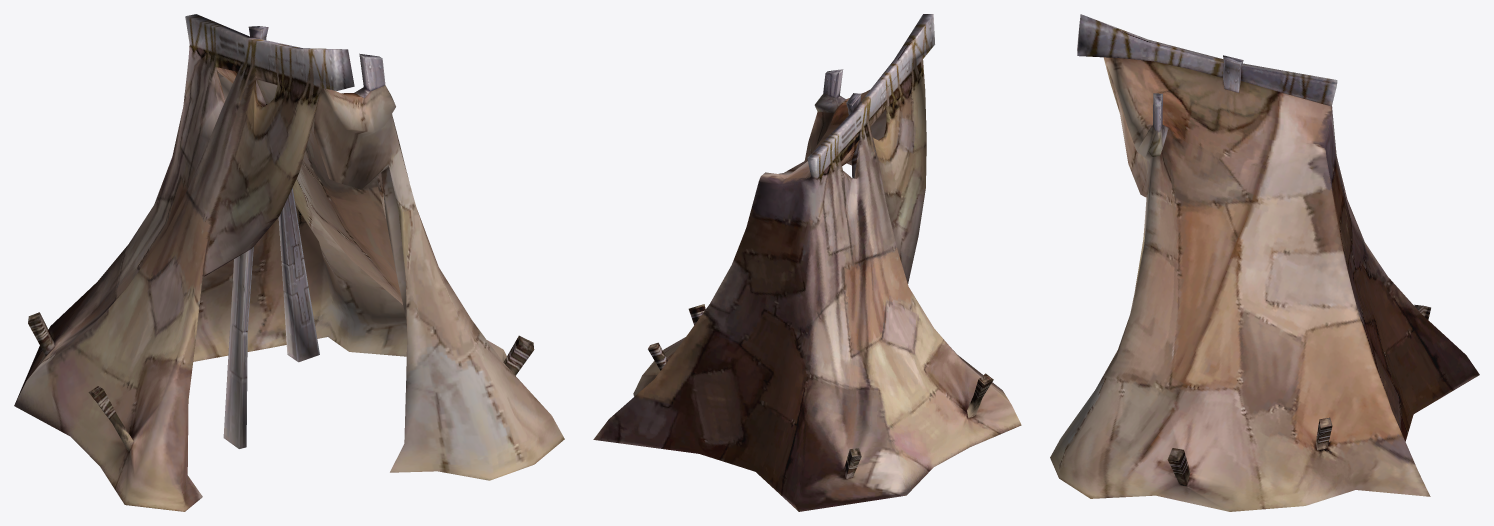
The model's file is all_tent_merchant_small.glb.
3 views of the same model, side by side, from view 1: azimuth 30°, elevation 25°; view 2: azimuth 150°, elevation 25°; view 3: azimuth 270°, elevation 25° (orthographic). The views are drawn at different scales.
Parts seen in each view (by area): view 1: all_tent_merchant_small; view 2: all_tent_merchant_small; view 3: all_tent_merchant_small.
Boxes of the visible parts, x1=… form: all_tent_merchant_small: x1=14, y1=14, x2=564, y2=511; all_tent_merchant_small: x1=593, y1=14, x2=1021, y2=511; all_tent_merchant_small: x1=1050, y1=14, x2=1479, y2=511.
Bounding box in the file's own units: 0.5593 × 0.5639 × 0.568.
1 material, 1 textured.
